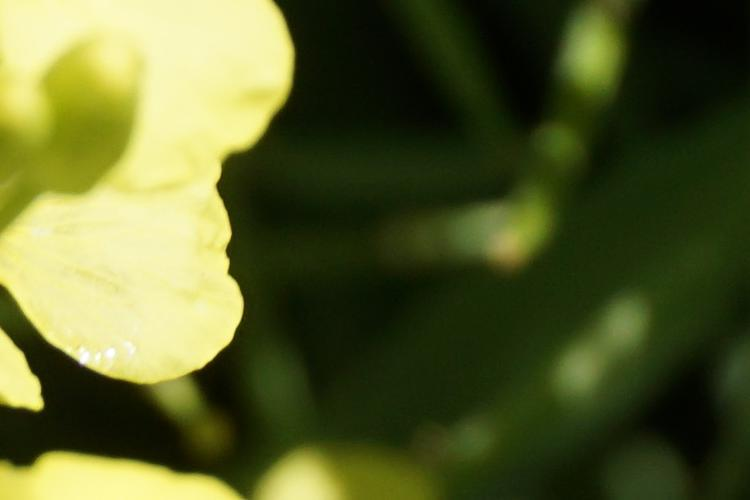bud: (40, 49, 146, 190)
yellow: (25, 24, 281, 385)
